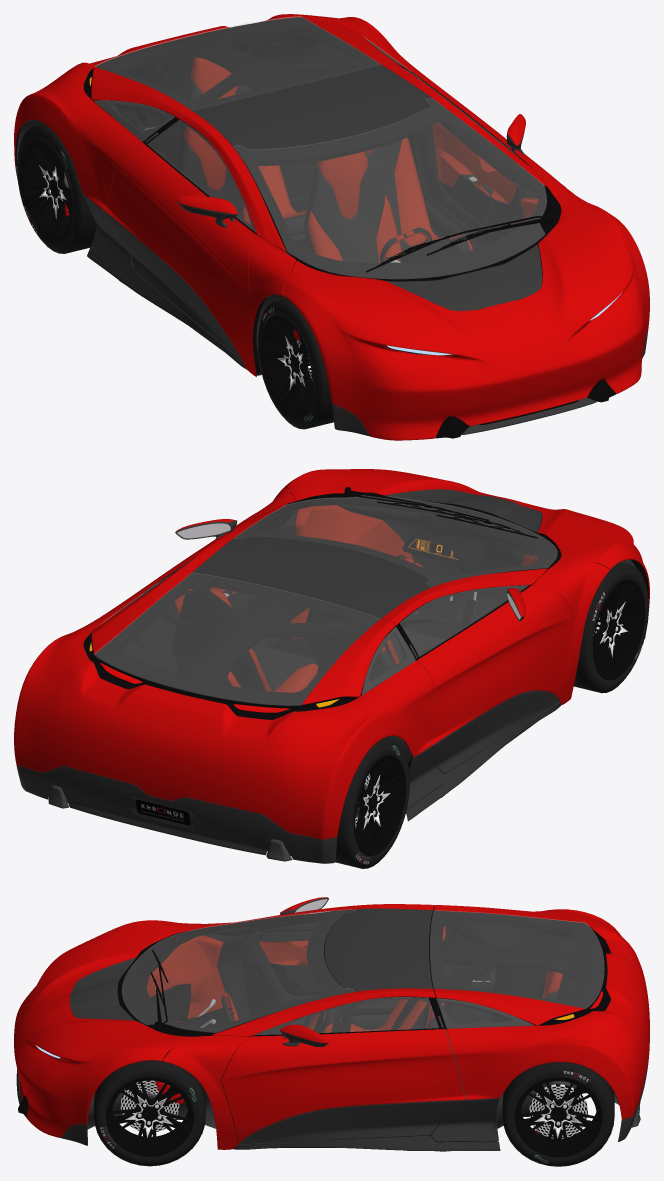
The model's file is supercar.glb.
The picture shows the model from 3 angles, top to bottom: view 1: azimuth 30°, elevation 25°; view 2: azimuth 150°, elevation 25°; view 3: azimuth 270°, elevation 25°; orthographic projection. The views are drawn at different scales.
Parts seen in each view (by area): view 1: BodyRearPanelsColor1-part, BodyWindshield-part, BodyWindshieldGasket-part, BodyRoofPanel-part, InteriorDashSides-part, InteriorDashMid-part, InteriorSeatsColor2-part, -part (×2), WheelRearRRim-part, WheelFrontRRim-part, InteriorMid-part, InteriorSteeringDash-part (+1 smaller); view 2: BodyRearPanelsColor1-part, BodyWindshield-part, BodyRoofPanel-part, BodyWindshieldGasket-part, InteriorDashMid-part, -part (×2), InteriorDashSides-part, WheelFrontRRim-part, WheelRearRRim-part, InteriorSeatsColor2-part, InteriorFloormats-part, InteriorSteeringDash-part (+4 smaller); view 3: BodyRearPanelsColor1-part, BodyWindshield-part, BodyRoofPanel-part, BodyWindshieldGasket-part, -part (×2), InteriorDashMid-part, InteriorDashSides-part, WheelFrontLRim-part, WheelRearLRim-part, InteriorMid-part, BodyUnderside-part, InteriorSeatsColor2-part (+3 smaller).
Boxes of the visible parts, x1,y1,x2,y2 form: BodyRearPanelsColor1-part: [14, 14, 649, 440]; BodyWindshield-part: [94, 16, 546, 278]; BodyWindshieldGasket-part: [16, 17, 616, 438]; BodyRoofPanel-part: [15, 65, 648, 436]; InteriorDashSides-part: [184, 57, 538, 348]; InteriorDashMid-part: [15, 33, 524, 280]; InteriorSeatsColor2-part: [179, 78, 469, 263]; -part (×2): [17, 123, 333, 429]; WheelRearRRim-part: [20, 140, 72, 240]; WheelFrontRRim-part: [261, 315, 313, 416]; InteriorMid-part: [92, 173, 543, 374]; InteriorSteeringDash-part: [402, 238, 463, 262]; BodyRearPanelsColor1-part: [14, 469, 649, 839]; BodyWindshield-part: [94, 495, 557, 705]; BodyRoofPanel-part: [16, 489, 645, 863]; BodyWindshieldGasket-part: [65, 487, 648, 802]; InteriorDashMid-part: [49, 501, 538, 855]; -part (×2): [335, 562, 648, 868]; InteriorDashSides-part: [174, 505, 537, 692]; WheelFrontRRim-part: [593, 579, 645, 680]; WheelRearRRim-part: [354, 755, 406, 855]; InteriorSeatsColor2-part: [251, 629, 445, 691]; InteriorFloormats-part: [273, 598, 475, 660]; InteriorSteeringDash-part: [402, 532, 470, 565]; BodyRearPanelsColor1-part: [14, 897, 649, 1149]; BodyWindshield-part: [122, 909, 604, 1034]; BodyRoofPanel-part: [16, 897, 649, 1151]; BodyWindshieldGasket-part: [18, 906, 610, 1148]; -part (×2): [94, 1058, 614, 1166]; InteriorDashMid-part: [117, 913, 610, 1034]; InteriorDashSides-part: [146, 926, 562, 1032]; WheelFrontLRim-part: [106, 1077, 193, 1156]; WheelRearLRim-part: [514, 1077, 602, 1157]; InteriorMid-part: [204, 927, 497, 1147]; BodyUnderside-part: [38, 931, 640, 1129]; InteriorSeatsColor2-part: [302, 978, 558, 1033].
Size of the model in its own units: 2.34 by 1.15 by 4.36.
Materials: 23 (6 with a texture image).
